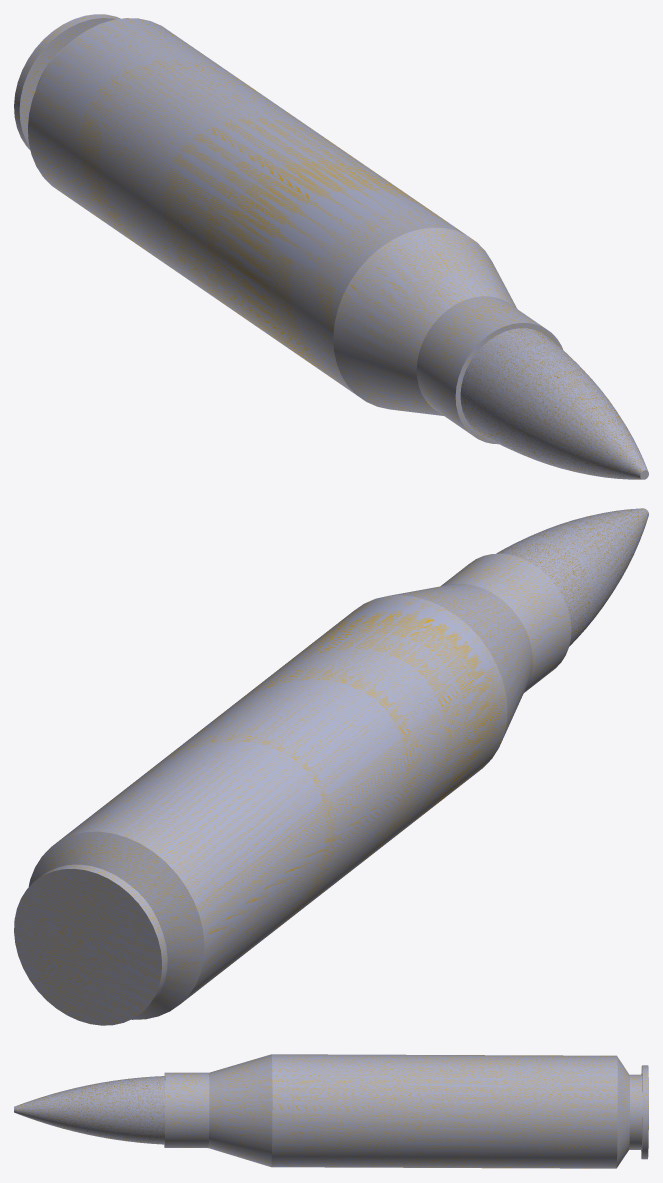
The model's file is bullet.obj.
The picture shows the model from 3 angles, top to bottom: view 1: azimuth 30°, elevation 25°; view 2: azimuth 150°, elevation 25°; view 3: azimuth 270°, elevation 25°; orthographic projection. The views are drawn at different scales.
Visible parts, largest first — view 1: SketchUp.001_ID17, SketchUp.002_ID25, SketchUp.003_ID35; view 2: SketchUp.001_ID17, SketchUp.003_ID35, SketchUp.002_ID25; view 3: SketchUp.001_ID17, SketchUp.002_ID25, SketchUp.003_ID35.
Boxes of the visible parts, x1,y1,x2,y2 form: SketchUp.001_ID17: (28, 18, 562, 444); SketchUp.002_ID25: (460, 328, 647, 479); SketchUp.003_ID35: (14, 14, 120, 150); SketchUp.001_ID17: (28, 553, 571, 1019); SketchUp.003_ID35: (14, 864, 167, 1025); SketchUp.002_ID25: (496, 508, 648, 646); SketchUp.001_ID17: (164, 1054, 642, 1168); SketchUp.002_ID25: (14, 1076, 165, 1144); SketchUp.003_ID35: (641, 1065, 648, 1159).
Size of the model in its own units: 0.1494 by 0.148 by 0.8028.
